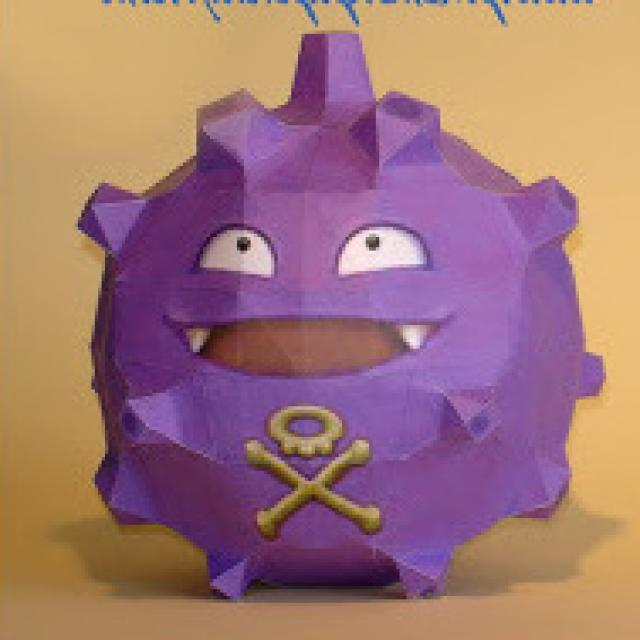Koffing: (74, 39, 605, 604)
